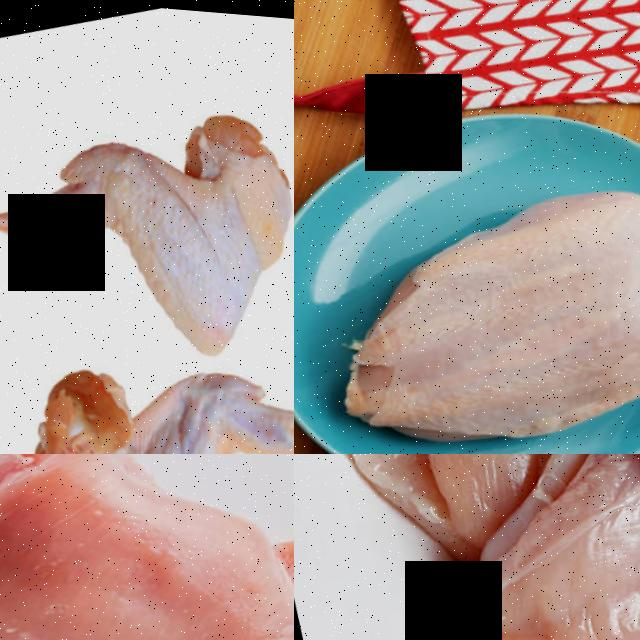chicken breast: (302, 133, 640, 454), (0, 454, 294, 640), (453, 454, 640, 640), (294, 454, 575, 546)
chicken wing: (0, 67, 294, 398), (13, 301, 294, 454)
